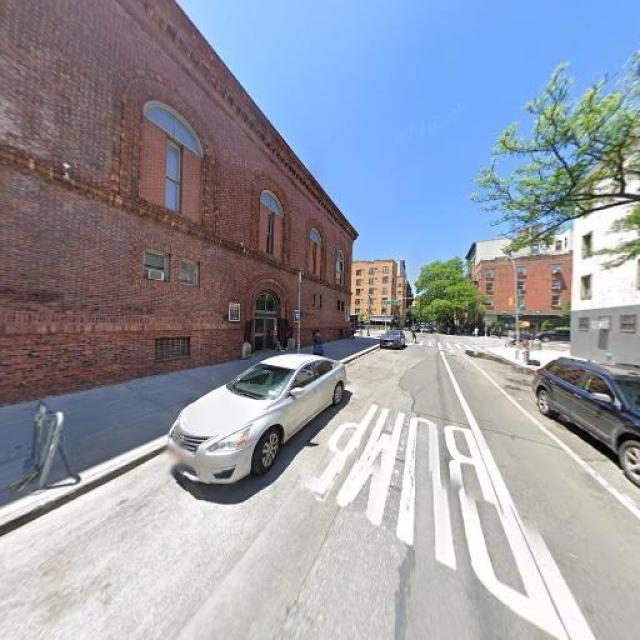Building: (1, 1, 352, 412), (572, 124, 640, 367)
